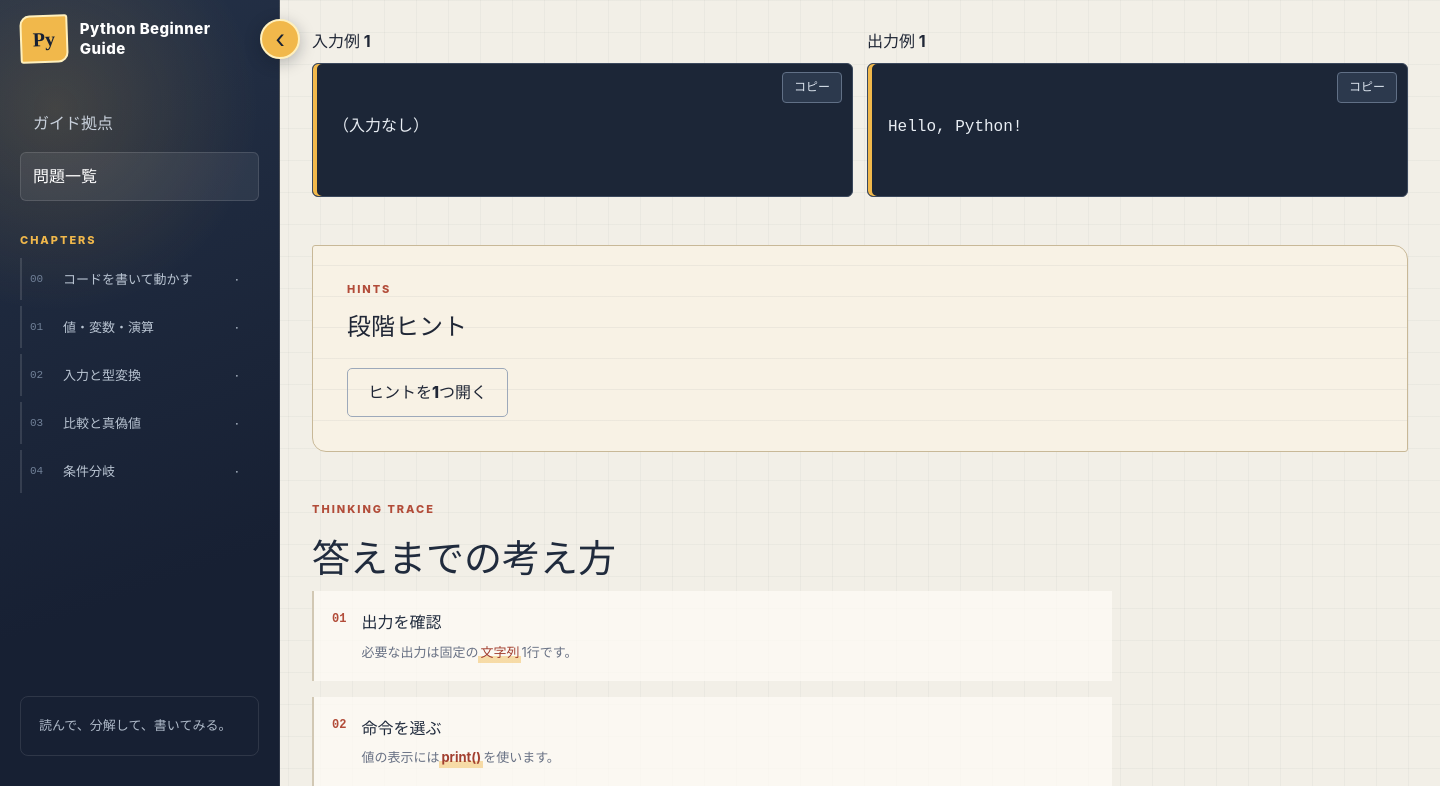
Scenario: application routes and interactions › reveals problem hints one at a time
(page scrolled)
Expected: the text "HINT 1" is not shown
Click the button "ヒントを1つ開く": (428, 393) [347,368,508,417]
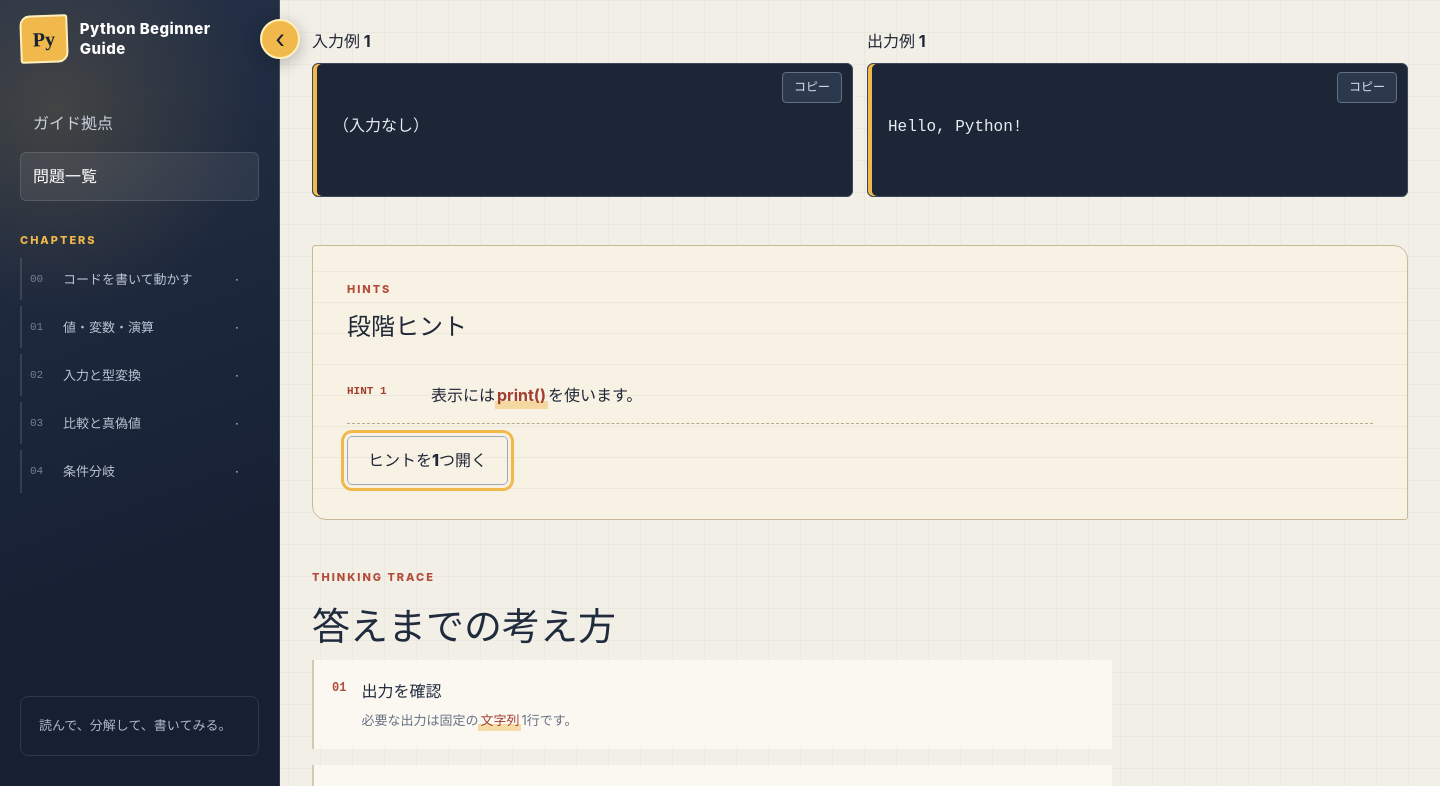
Now the button "print()" is shown, box [495,382,548,409]
